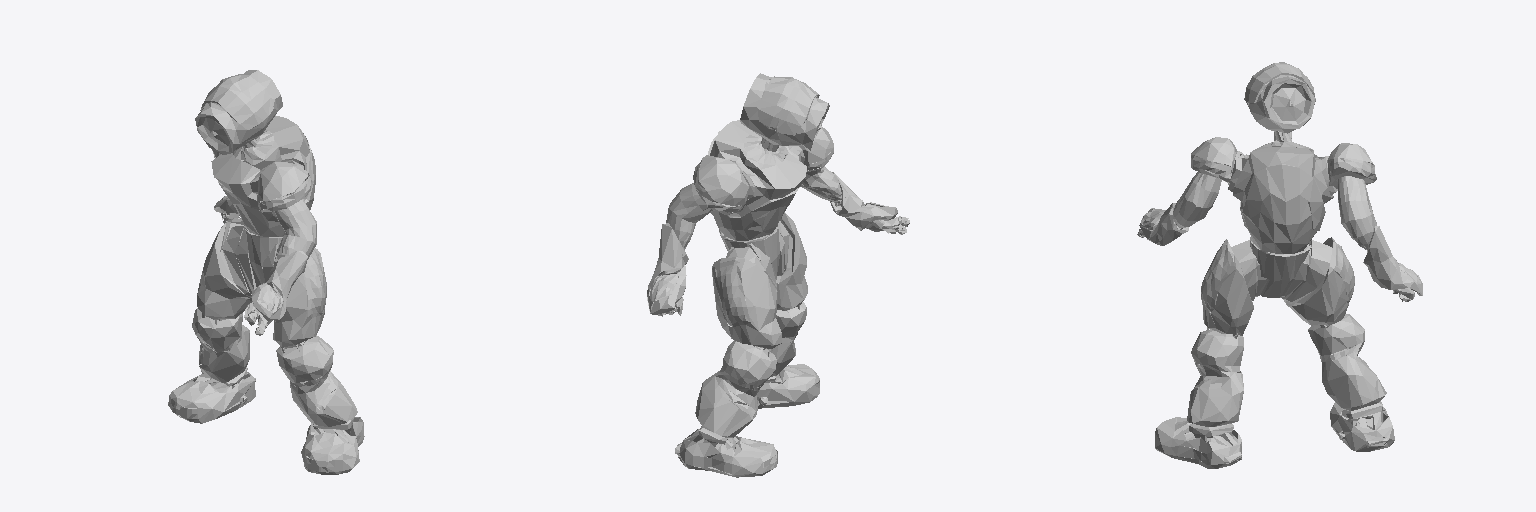
File: idle17.obj
3 views of the same model, side by side, from view 1: azimuth 30°, elevation 25°; view 2: azimuth 150°, elevation 25°; view 3: azimuth 270°, elevation 25° (orthographic).
Parts seen in each view (by area): view 1: Robot2.000_Robot2Mesh.000, Robot2.001_Robot2Mesh.002, Robot2.002_Robot2Mesh.003; view 2: Robot2.000_Robot2Mesh.000, Robot2.001_Robot2Mesh.002, Robot2.002_Robot2Mesh.003; view 3: Robot2.000_Robot2Mesh.000, Robot2.001_Robot2Mesh.002, Robot2.002_Robot2Mesh.003.
Boxes of the visible parts, x1=… form: Robot2.000_Robot2Mesh.000: x1=168, y1=70, x2=364, y2=474; Robot2.001_Robot2Mesh.002: x1=168, y1=74, x2=342, y2=472; Robot2.002_Robot2Mesh.003: x1=234, y1=130, x2=316, y2=286; Robot2.000_Robot2Mesh.000: x1=647, y1=73, x2=909, y2=477; Robot2.001_Robot2Mesh.002: x1=650, y1=76, x2=908, y2=472; Robot2.002_Robot2Mesh.003: x1=666, y1=133, x2=845, y2=279; Robot2.000_Robot2Mesh.000: x1=1139, y1=75, x2=1422, y2=468; Robot2.001_Robot2Mesh.002: x1=1137, y1=62, x2=1420, y2=439; Robot2.002_Robot2Mesh.003: x1=1173, y1=131, x2=1376, y2=297.
Size of the model in its own units: 0.88 by 2.01 by 1.44.